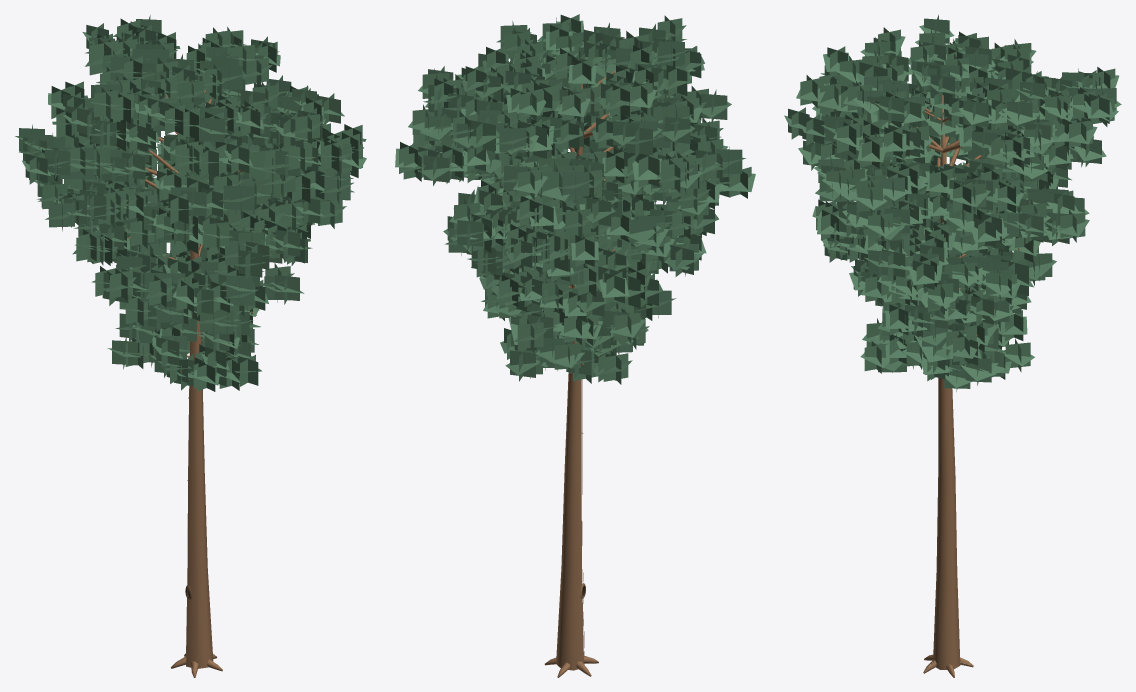
The model's file is pin_3_f3_jeu.glb.
3 views of the same model, side by side, from view 1: azimuth 30°, elevation 25°; view 2: azimuth 150°, elevation 25°; view 3: azimuth 270°, elevation 25° (orthographic). The views are drawn at different scales.
Parts seen in each view (by area): view 1: Pin_T3_f3_Leger; view 2: Pin_T3_f3_Leger; view 3: Pin_T3_f3_Leger.
Part boxes in pixels (x1=…): Pin_T3_f3_Leger: x1=15, y1=15, x2=366, y2=677; Pin_T3_f3_Leger: x1=395, y1=14, x2=755, y2=677; Pin_T3_f3_Leger: x1=784, y1=14, x2=1121, y2=677.
Size of the model in its own units: 8.63 by 15.97 by 8.12.
